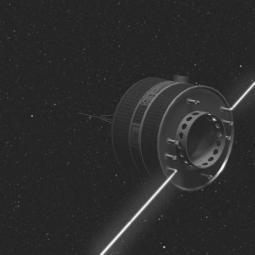double_start: (104, 66, 245, 202)
